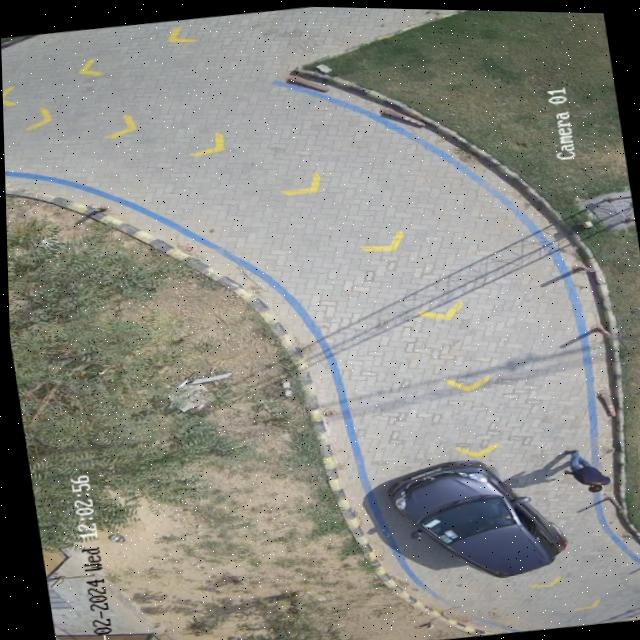car: (384, 457, 562, 573)
